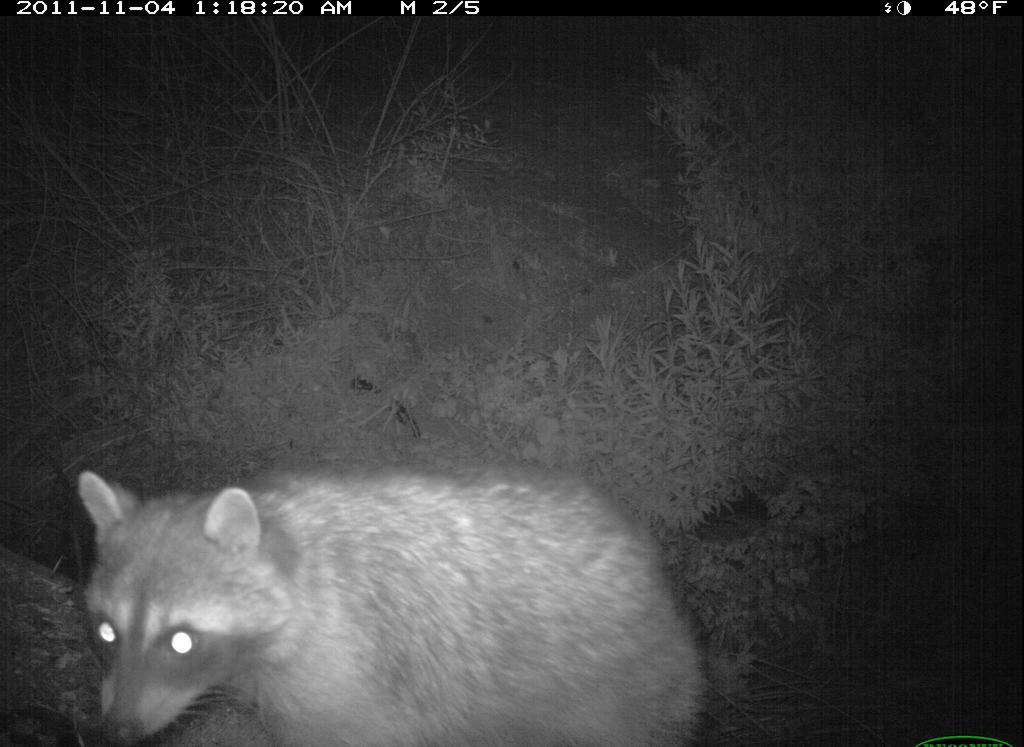raccoon: (62, 420, 760, 747)
